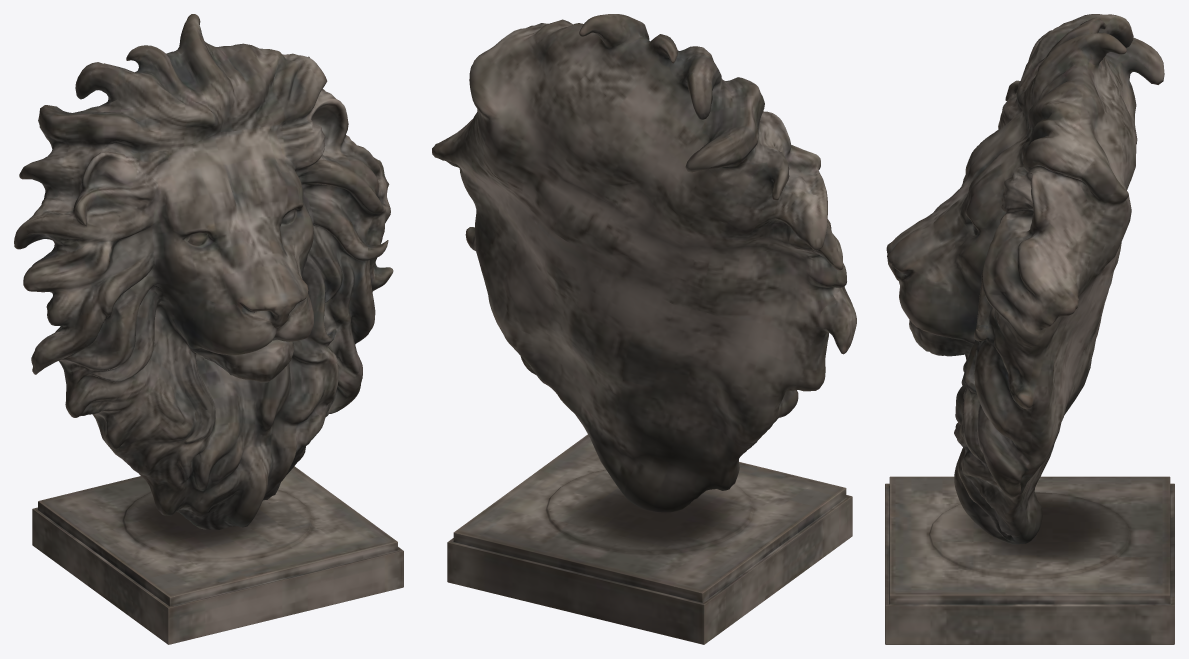
File: singha.glb
3 renders of one model, left to right at view 1: azimuth 30°, elevation 25°; view 2: azimuth 150°, elevation 25°; view 3: azimuth 270°, elevation 25°, orthographic. The views are drawn at different scales.
Parts seen in each view (by area): view 1: lion_head; view 2: lion_head; view 3: lion_head.
Boxes of the visible parts, <box> form: lion_head: <box>14,14,403,644</box>; lion_head: <box>432,14,856,644</box>; lion_head: <box>885,14,1174,644</box>.
Size of the model in its own units: 0.3208 by 0.4364 by 0.2066.
Materials: 1 (1 with a texture image).
